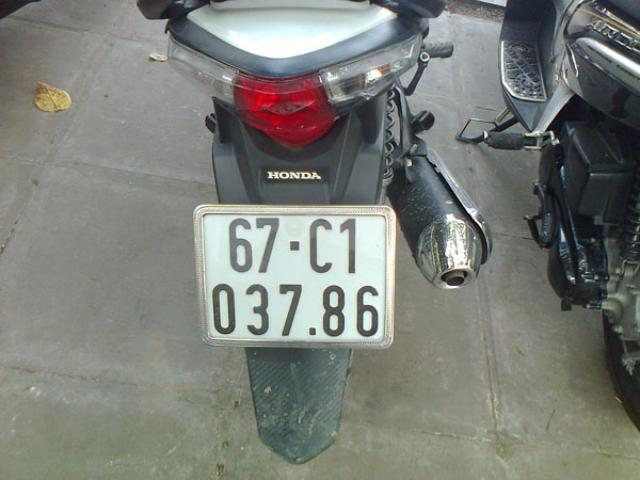plate: (200, 209, 396, 347)
